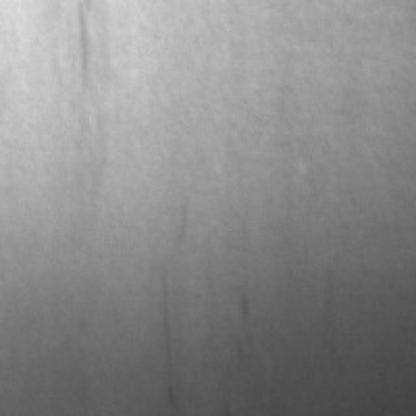inclusion: (133, 283, 196, 414), (60, 4, 98, 96)
